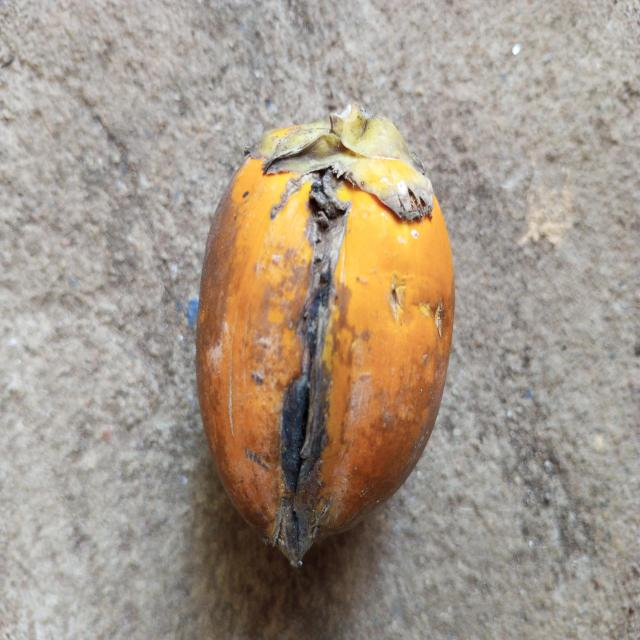damaged: (194, 108, 456, 569)
